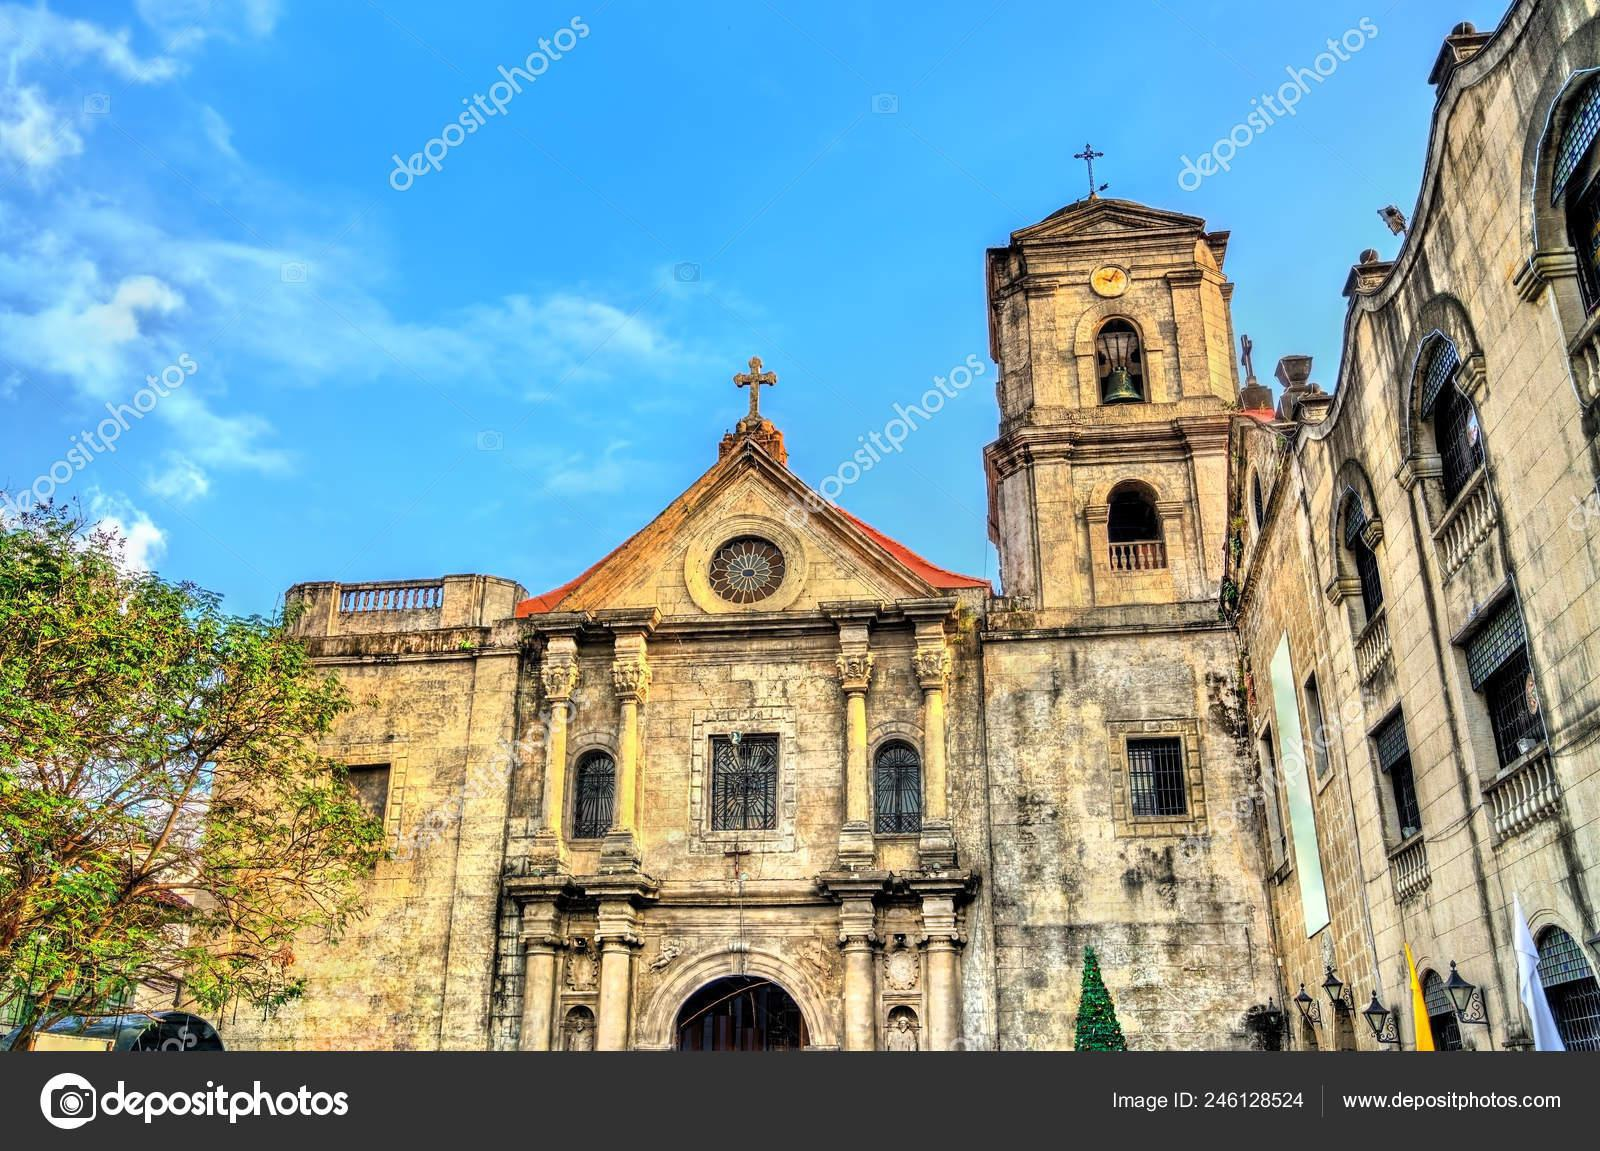san_agustin_church_intramuros_manila: (501, 127, 1299, 1050)
